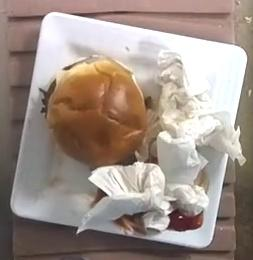burger: (46, 56, 148, 168)
